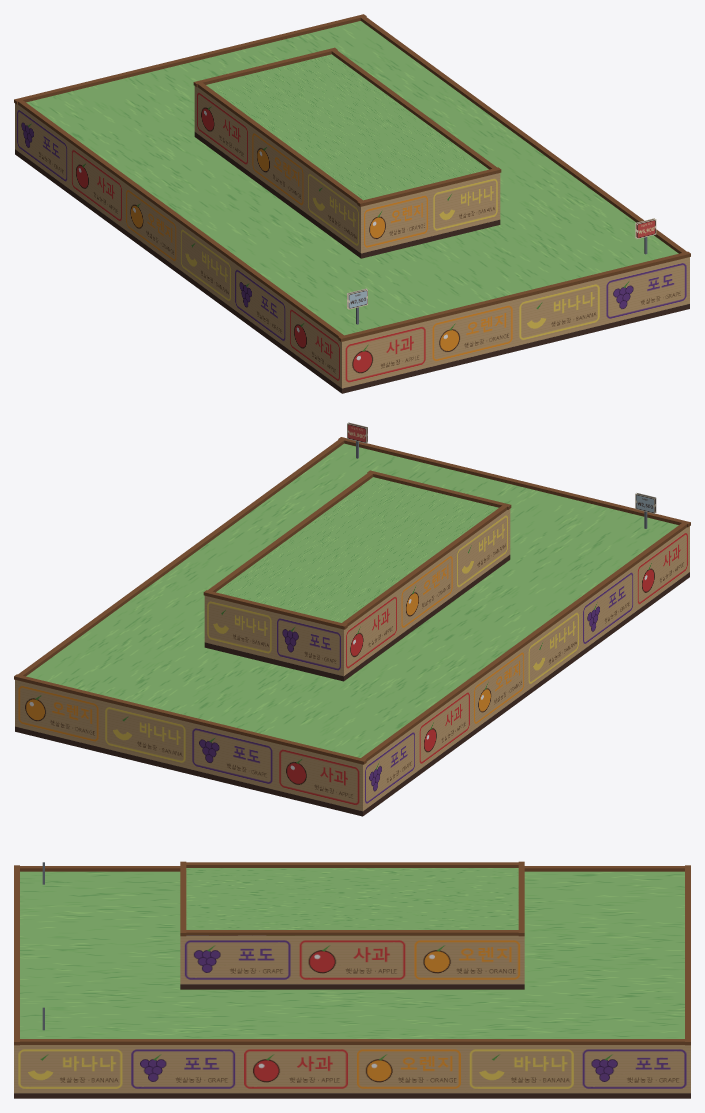
File: Prop_FruitHill.fbx
The picture shows the model from 3 angles, top to bottom: view 1: azimuth 30°, elevation 25°; view 2: azimuth 150°, elevation 25°; view 3: azimuth 270°, elevation 25°; orthographic projection. The views are drawn at different scales.
Visible parts, largest first — view 1: Prop_FruitHill; view 2: Prop_FruitHill; view 3: Prop_FruitHill.
Part boxes in pixels (bbox=[...]): Prop_FruitHill: bbox=[14, 14, 690, 393]; Prop_FruitHill: bbox=[14, 422, 690, 816]; Prop_FruitHill: bbox=[14, 861, 690, 1098].
Size of the model in its own units: 3.52 by 1.03 by 5.7.
1 material, 1 textured.
